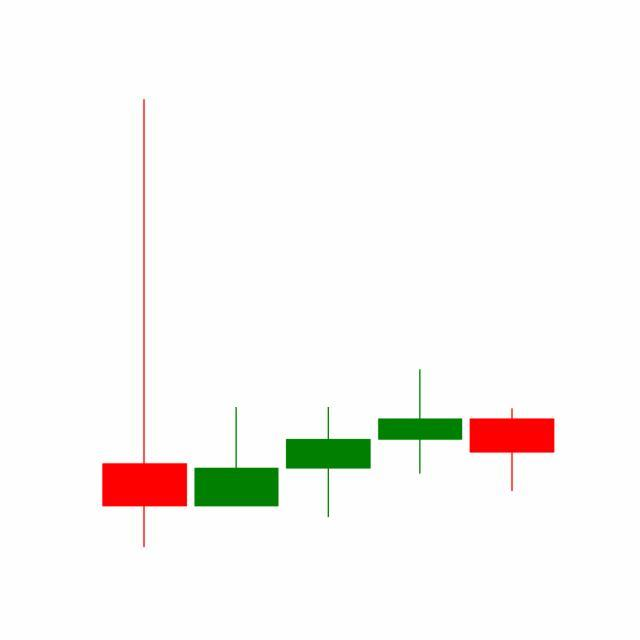Spinning Top: (374, 369, 468, 476)
